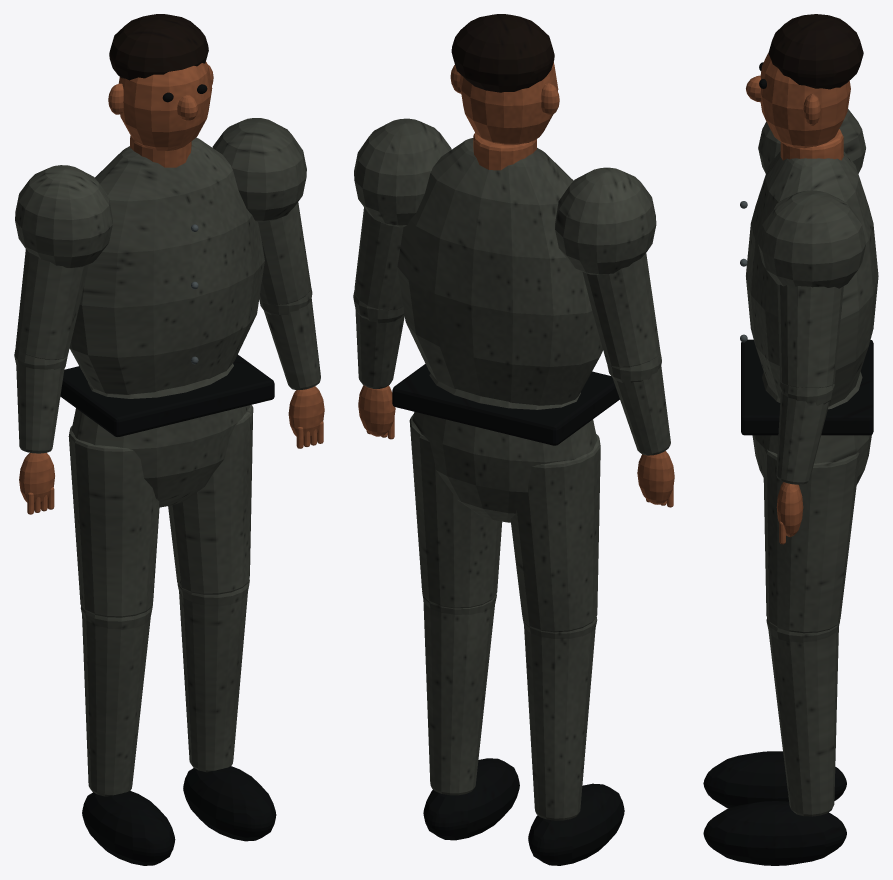
The model's file is PROP-AD62F66BA933_lod0.glb.
The picture shows the model from 3 angles, left to right: view 1: azimuth 30°, elevation 25°; view 2: azimuth 150°, elevation 25°; view 3: azimuth 270°, elevation 25°; orthographic projection. The views are drawn at different scales.
Visible parts, largest first — view 1: torso, thigh, calf, shoulder, shoe, upper_arm, pelvis, belt, forearm, head, hair_cap, hand (+4 smaller); view 2: torso, thigh, calf, shoulder, pelvis, upper_arm, shoe, belt, hair_cap, forearm, head, hand (+4 smaller); view 3: thigh, torso, shoe, shoulder, calf, upper_arm, hair_cap, belt, head, forearm, pelvis, hand (+4 smaller).
Boxes of the visible parts, x1=… form: torso: x1=69, y1=137, x2=264, y2=394; thigh: x1=68, y1=405, x2=253, y2=617; calf: x1=82, y1=592, x2=247, y2=796; shoulder: x1=15, y1=118, x2=306, y2=268; shoe: x1=82, y1=766, x2=276, y2=865; upper_arm: x1=15, y1=202, x2=310, y2=359; pelvis: x1=71, y1=363, x2=249, y2=507; belt: x1=60, y1=354, x2=274, y2=436; forearm: x1=16, y1=299, x2=320, y2=453; head: x1=118, y1=61, x2=212, y2=150; hair_cap: x1=109, y1=14, x2=208, y2=80; hand: x1=19, y1=386, x2=324, y2=504; torso: x1=397, y1=138, x2=602, y2=405; thigh: x1=409, y1=414, x2=600, y2=632; calf: x1=423, y1=600, x2=595, y2=820; shoulder: x1=354, y1=118, x2=656, y2=274; pelvis: x1=412, y1=373, x2=597, y2=522; upper_arm: x1=354, y1=207, x2=660, y2=367; shoe: x1=423, y1=758, x2=624, y2=865; belt: x1=392, y1=364, x2=619, y2=445; hair_cap: x1=451, y1=14, x2=554, y2=92; forearm: x1=355, y1=310, x2=670, y2=455; head: x1=459, y1=62, x2=558, y2=144; hand: x1=358, y1=385, x2=674, y2=504; thigh: x1=763, y1=449, x2=859, y2=633; torso: x1=746, y1=151, x2=878, y2=406; shoe: x1=703, y1=751, x2=846, y2=865; shoulder: x1=758, y1=109, x2=866, y2=288; calf: x1=768, y1=627, x2=838, y2=816; upper_arm: x1=777, y1=284, x2=843, y2=388; hair_cap: x1=768, y1=14, x2=863, y2=89; belt: x1=741, y1=339, x2=873, y2=435; head: x1=760, y1=53, x2=850, y2=148; forearm: x1=776, y1=391, x2=829, y2=484; pelvis: x1=752, y1=371, x2=871, y2=484; hand: x1=776, y1=482, x2=803, y2=537.
Size of the model in its own units: 0.7175 by 1.84 by 0.3561.
Materials: 5 (5 with a texture image).
